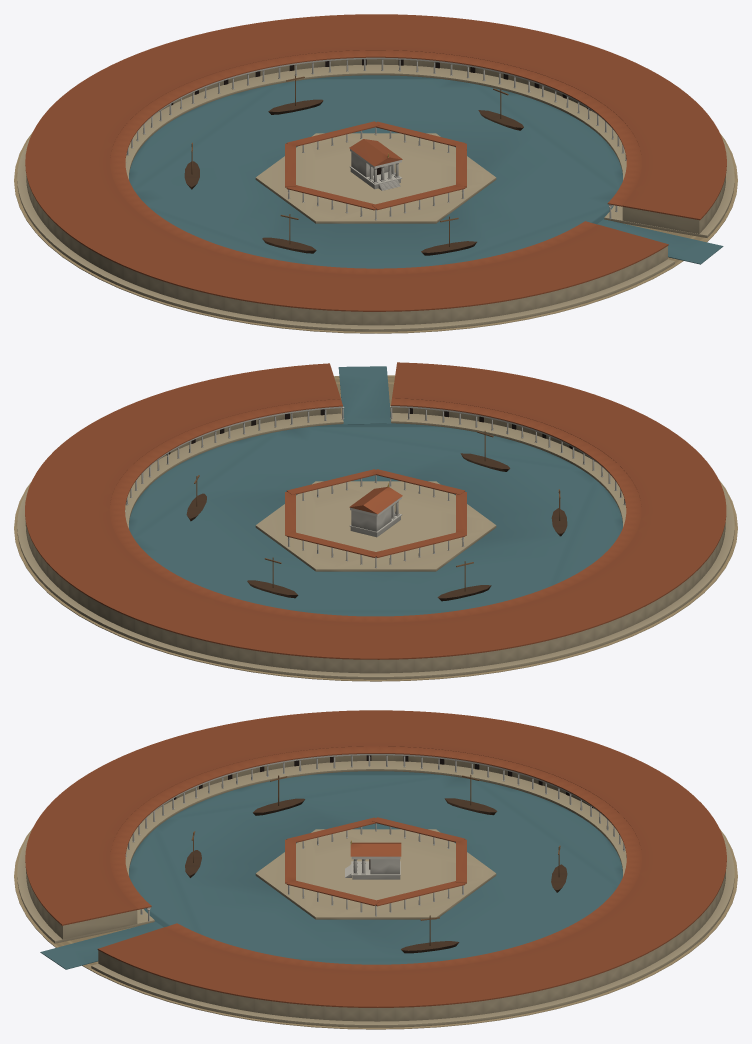
File: cothon-roman.glb
3 renders of one model, top to bottom at view 1: azimuth 30°, elevation 25°; view 2: azimuth 150°, elevation 25°; view 3: azimuth 270°, elevation 25°, orthographic.
Parts seen in each view (by area): view 1: p2_roofs, p0_basin, p1_porticoes; view 2: p2_roofs, p0_basin, p1_porticoes; view 3: p2_roofs, p0_basin, p1_porticoes.
Boxes of the visible parts, x1,y1,x2,y2 form: p2_roofs: (25,14,726,311); p0_basin: (14,64,737,333); p1_porticoes: (26,57,725,325); p2_roofs: (25,362,726,659); p0_basin: (14,366,737,681); p1_porticoes: (25,406,725,673); p2_roofs: (25,710,726,1007); p0_basin: (14,761,737,1029); p1_porticoes: (26,754,725,1021).
Bounding box in the file's own units: 331 × 18.39 × 331.
